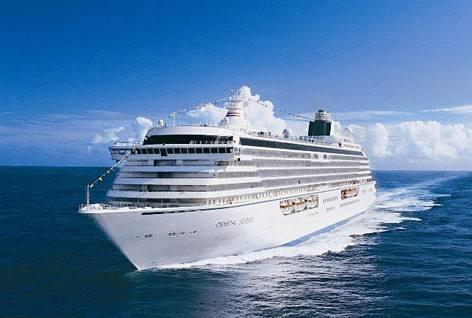youlun: (77, 83, 380, 272)
